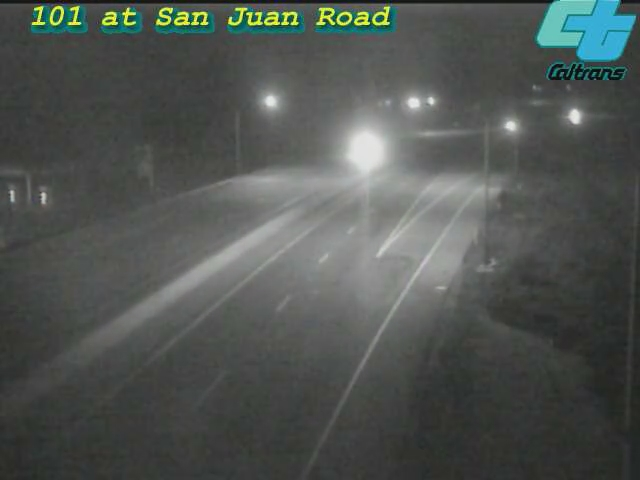vehicle: (338, 126, 388, 176), (484, 102, 534, 152), (546, 93, 596, 143)
